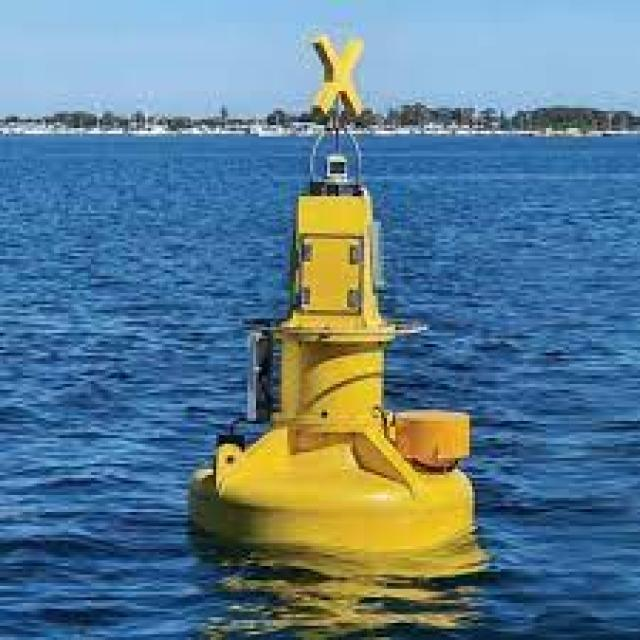buoy: (189, 15, 487, 589)
